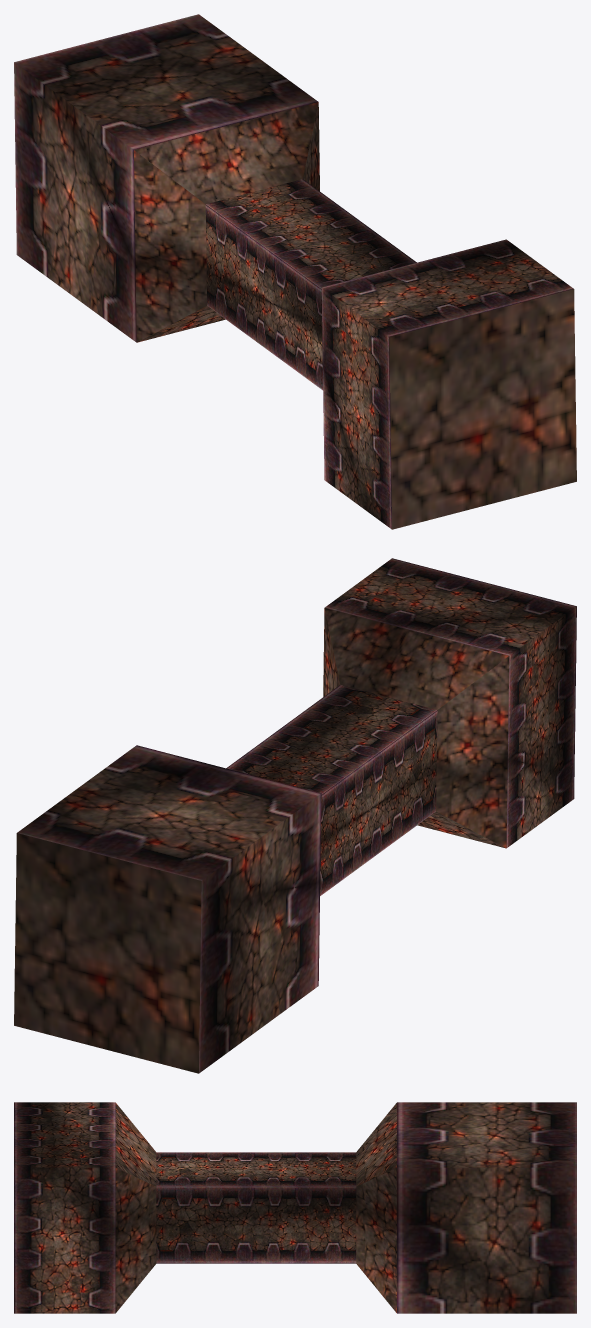
Rendered from column-B_01.obj.
3 views of the same model, one above another, from view 1: azimuth 30°, elevation 25°; view 2: azimuth 150°, elevation 25°; view 3: azimuth 270°, elevation 25° (orthographic). The views are drawn at different scales.
Parts seen in each view (by area): view 1: (null); view 2: (null); view 3: (null).
Boxes of the visible parts, box(x1,y1,x2,y2) form: (null): box(14, 14, 576, 529); (null): box(14, 558, 576, 1073); (null): box(14, 1102, 576, 1313).
Size of the model in its own units: 1.26 by 1.26 by 4.38.
